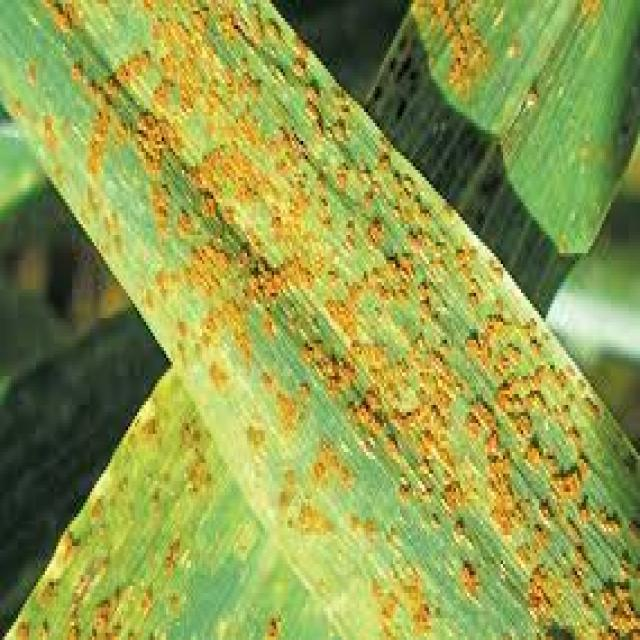leaf rust: (18, 4, 635, 636)
